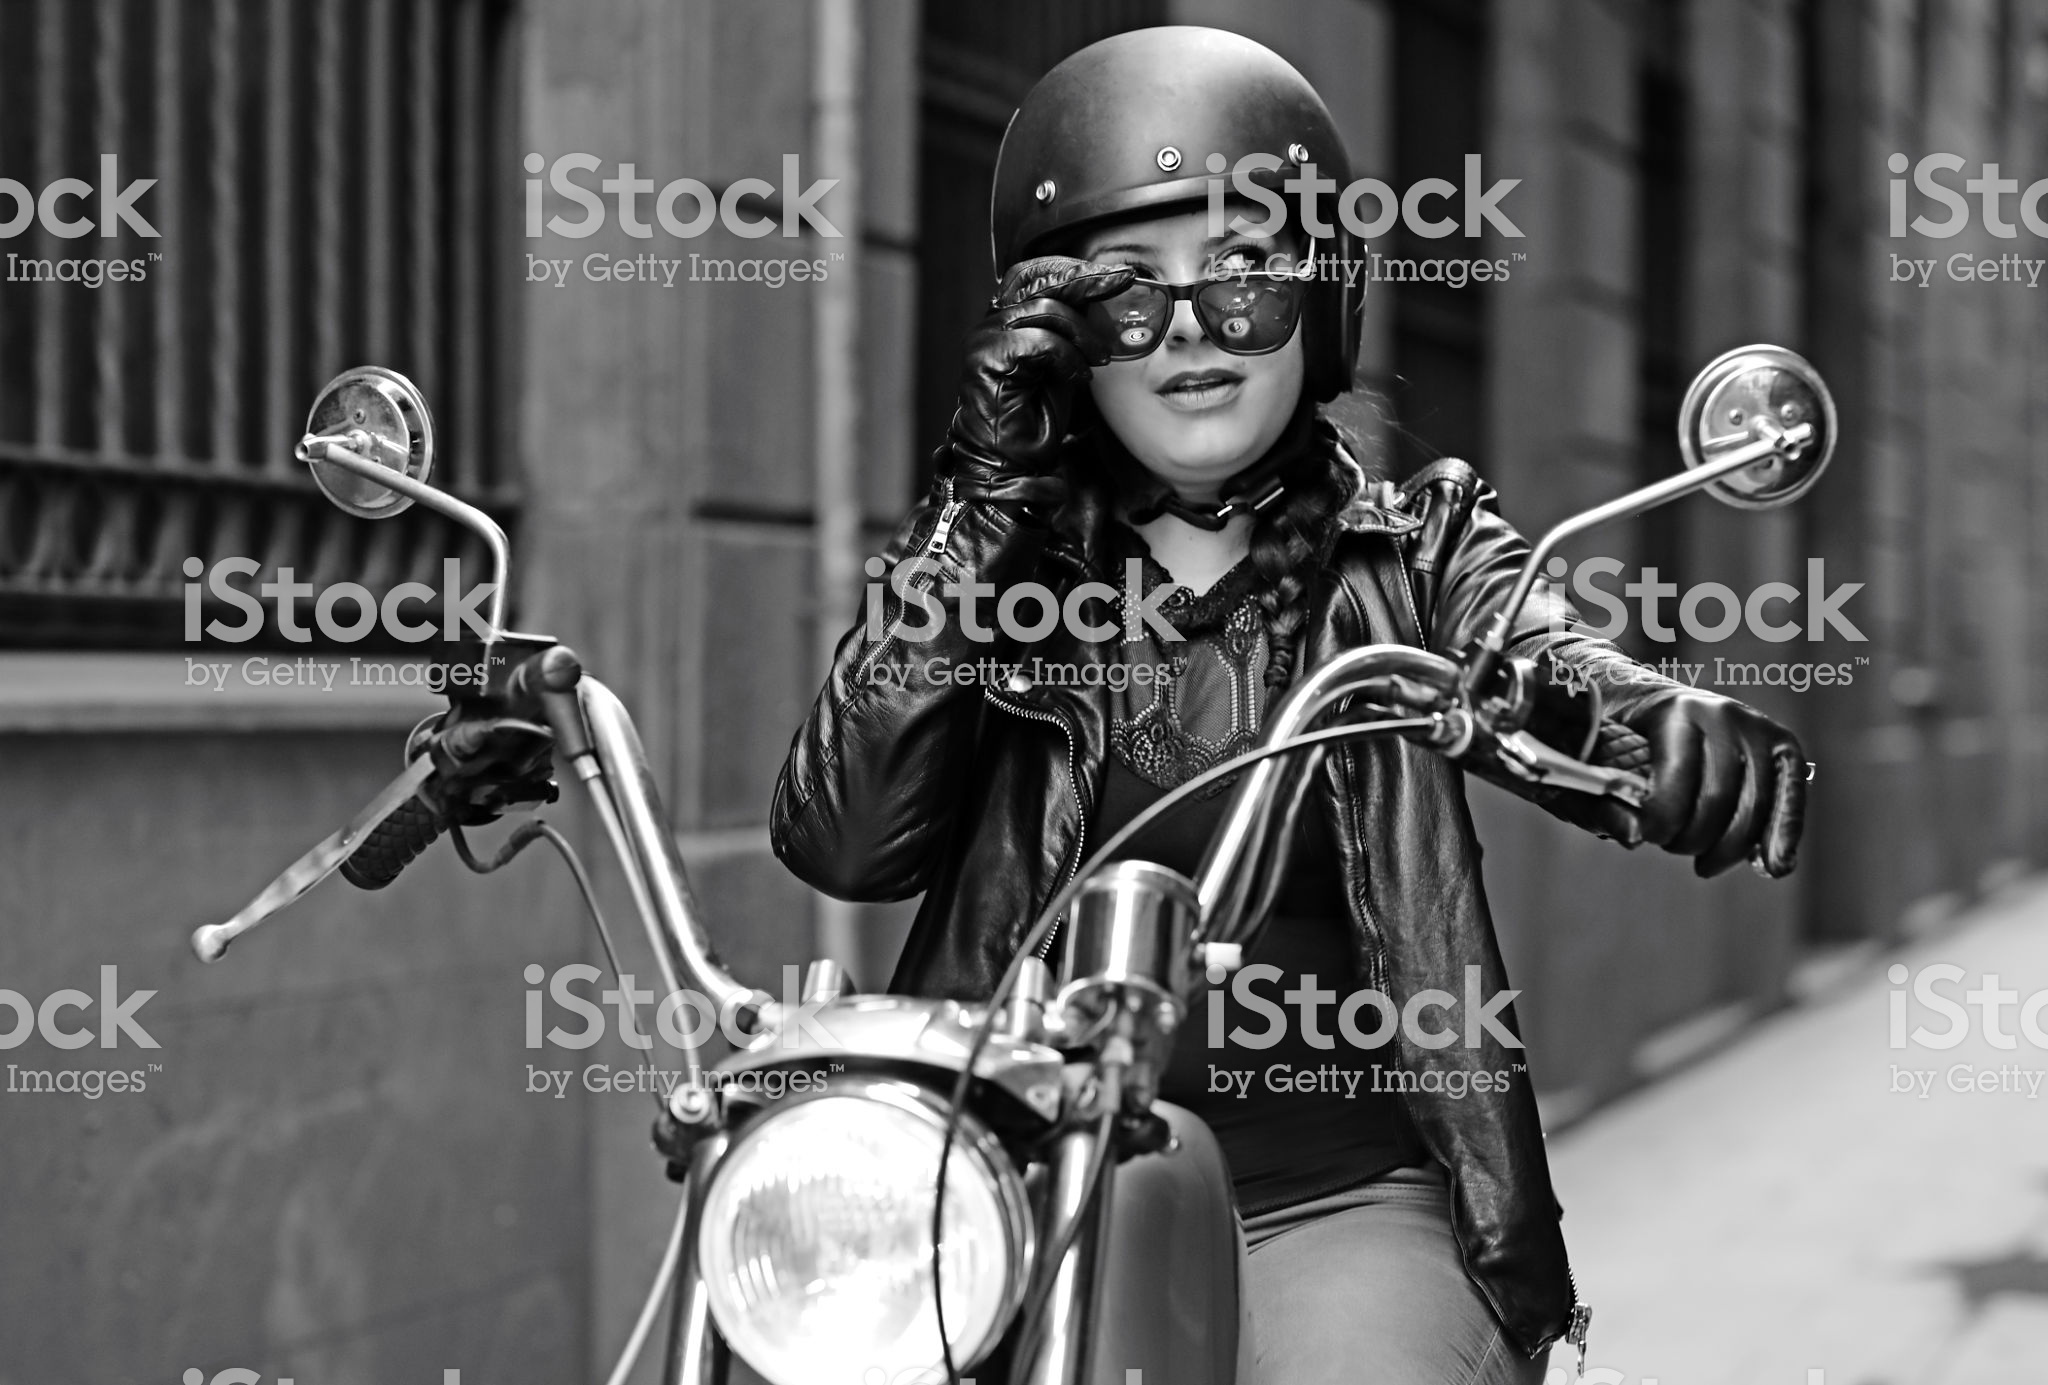helmet: (964, 46, 1400, 393)
